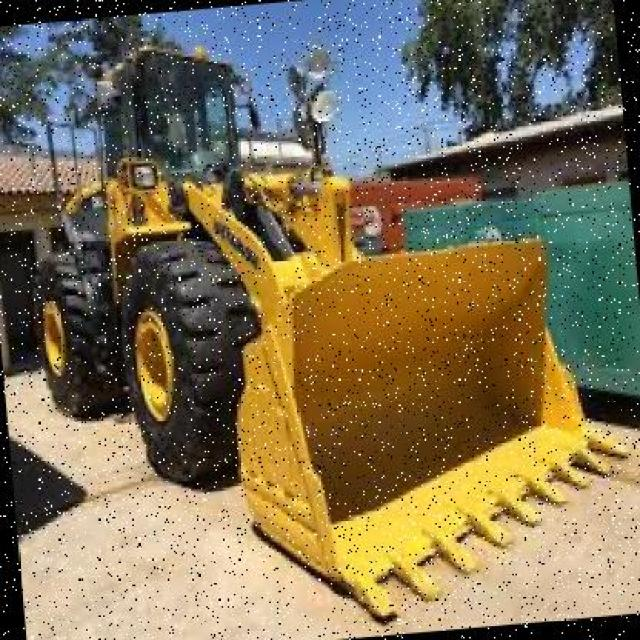buldozerpayloadergrader: (15, 4, 630, 640)
